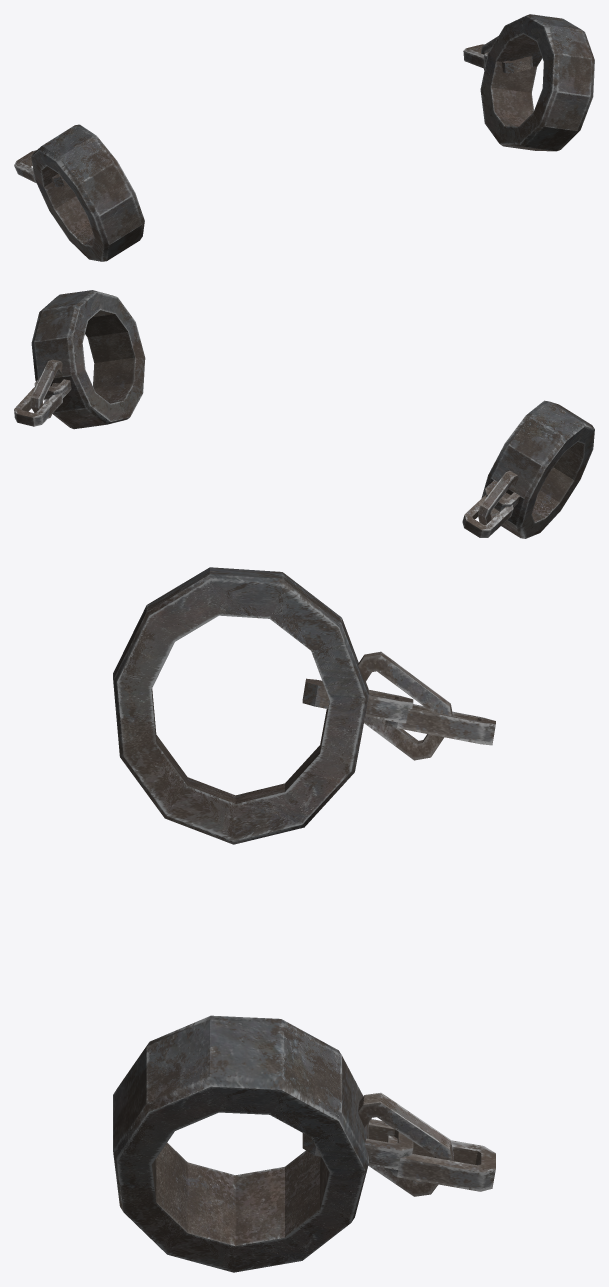
The model's file is HANDS_CHIBI_SHACKLES.fbx.
3 renders of one model, top to bottom at view 1: azimuth 30°, elevation 25°; view 2: azimuth 150°, elevation 25°; view 3: azimuth 270°, elevation 25°, orthographic. The views are drawn at different scales.
Visible parts, largest first — view 1: HANDS_CHIBI_SHACKLES_LEFT, HANDS_CHIBI_SHACKLES_RIGHT; view 2: HANDS_CHIBI_SHACKLES_LEFT, HANDS_CHIBI_SHACKLES_RIGHT; view 3: HANDS_CHIBI_SHACKLES_LEFT, HANDS_CHIBI_SHACKLES_RIGHT.
Part boxes in pixels (bbox=[...]): HANDS_CHIBI_SHACKLES_LEFT: bbox=[463, 14, 594, 151]; HANDS_CHIBI_SHACKLES_RIGHT: bbox=[14, 124, 144, 261]; HANDS_CHIBI_SHACKLES_LEFT: bbox=[14, 290, 145, 429]; HANDS_CHIBI_SHACKLES_RIGHT: bbox=[462, 400, 594, 538]; HANDS_CHIBI_SHACKLES_LEFT: bbox=[113, 1015, 495, 1272]; HANDS_CHIBI_SHACKLES_RIGHT: bbox=[113, 567, 495, 844].
Bounding box in the file's own units: 0.0921 × 0.0213 × 0.0289.
